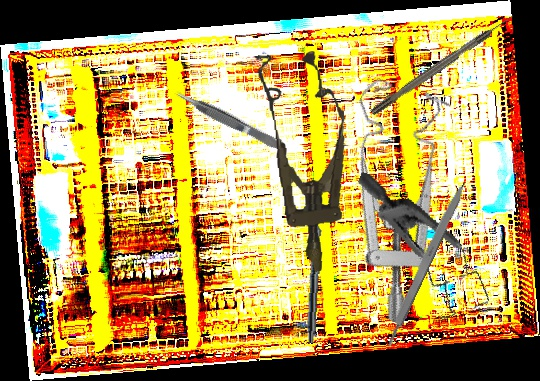Handpiece: (305, 204, 326, 344)
Hook Surgical: (369, 12, 516, 117)
Scalpel Handle: (379, 177, 470, 351)
Speculum: (282, 68, 493, 326), (325, 171, 515, 332), (252, 47, 361, 276)
Tissue Forceps: (171, 85, 285, 155)
